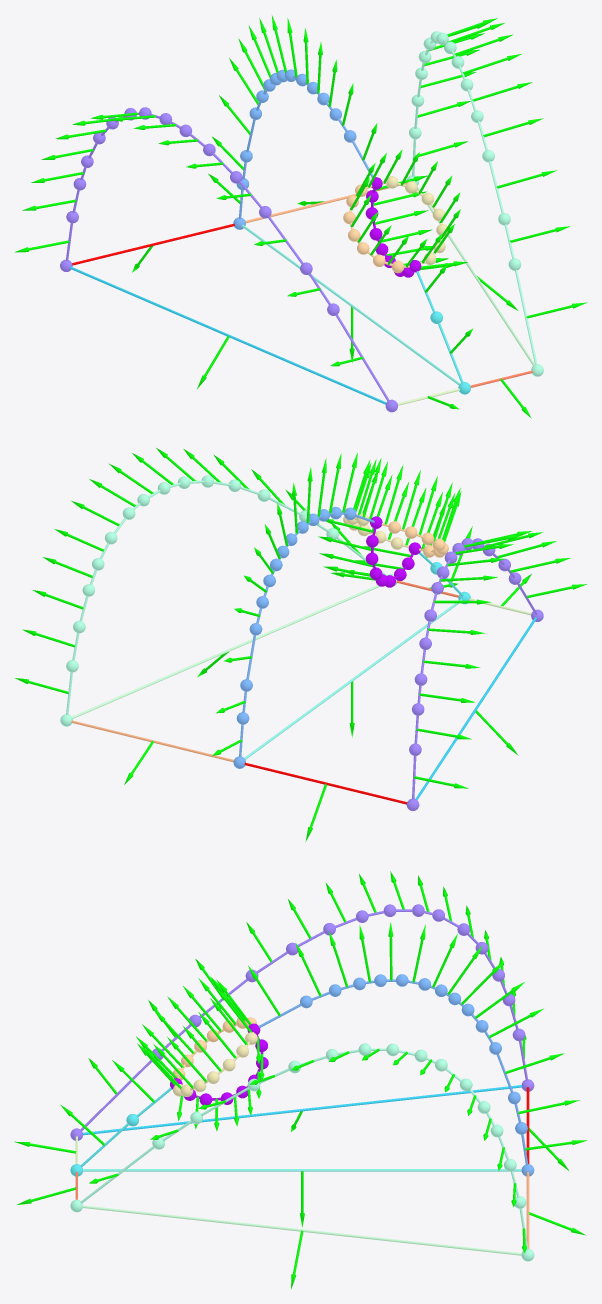
Rendered from onshape_simple_mouse.gltf.
3 renders of one model, top to bottom at view 1: azimuth 30°, elevation 25°; view 2: azimuth 150°, elevation 25°; view 3: azimuth 270°, elevation 25°, orthographic.
Bounding box in the file's own units: 0.8241 × 0.5274 × 0.8978.
